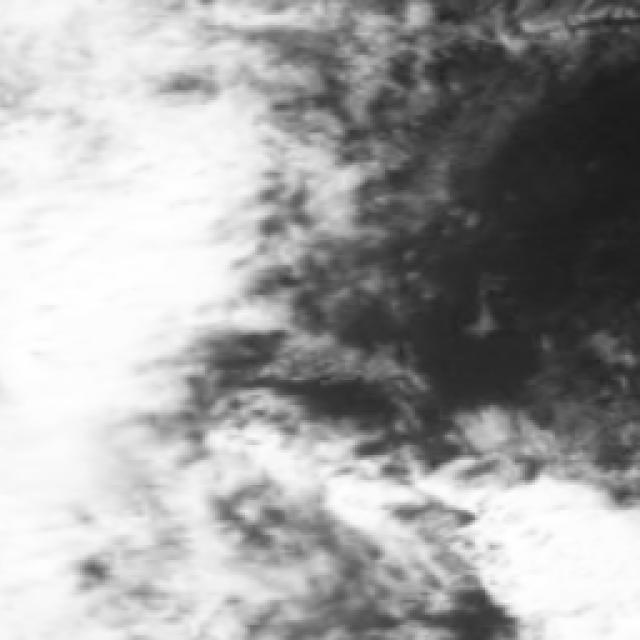CB: (0, 190, 105, 494), (102, 192, 182, 344), (547, 522, 640, 640)
